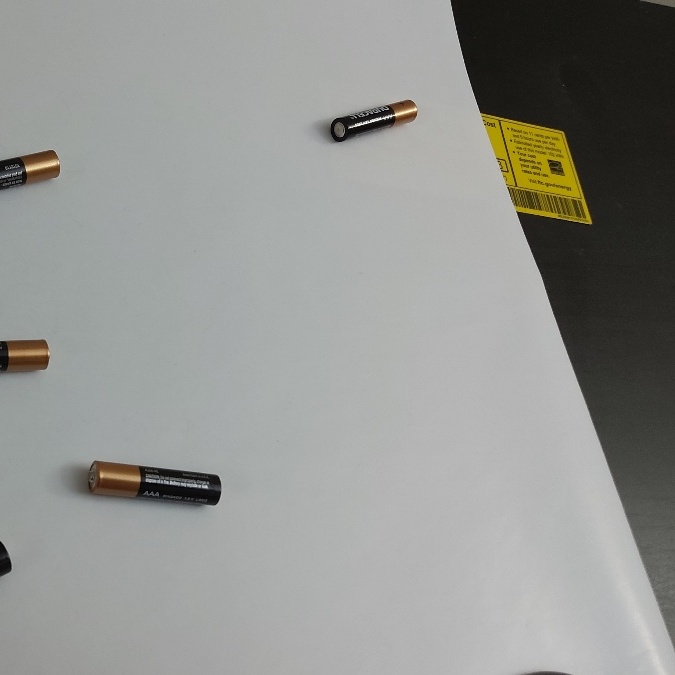battery: (81, 454, 228, 514), (321, 92, 425, 149)
